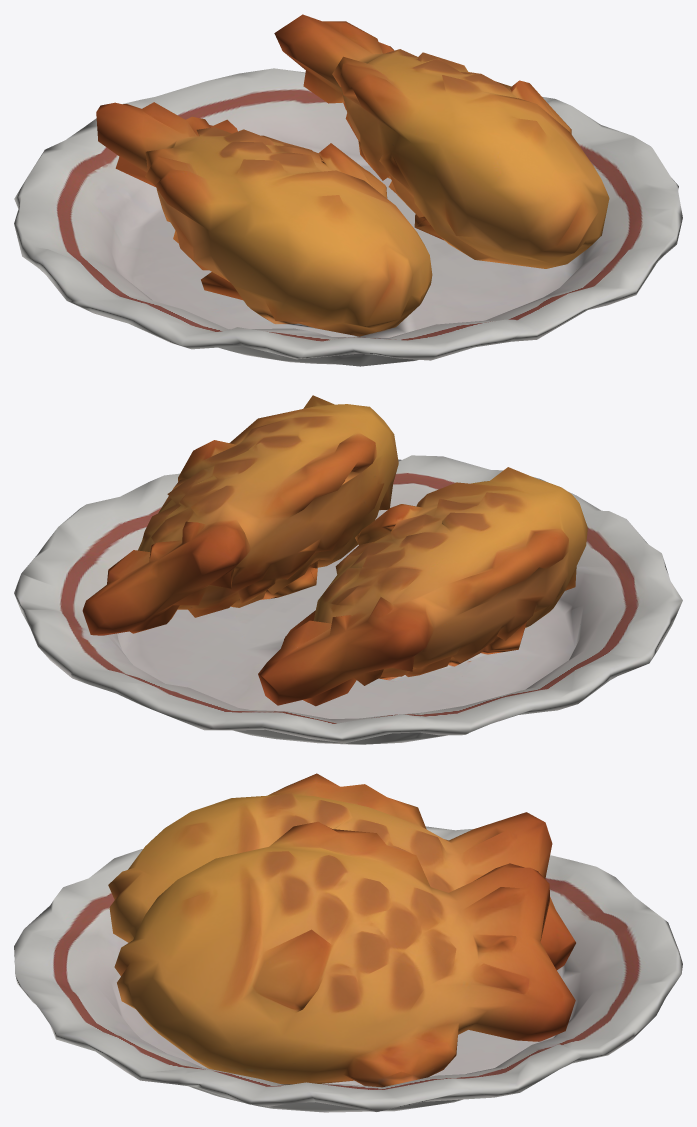
The model's file is KR_사물_s1_food_tier2_bungeoppang.glb.
The picture shows the model from 3 angles, top to bottom: view 1: azimuth 30°, elevation 25°; view 2: azimuth 150°, elevation 25°; view 3: azimuth 270°, elevation 25°; orthographic projection.
Visible parts, largest first — view 1: tripo_node_87b455a9-768c-48d7-bdda-f34a0cfb3f57; view 2: tripo_node_87b455a9-768c-48d7-bdda-f34a0cfb3f57; view 3: tripo_node_87b455a9-768c-48d7-bdda-f34a0cfb3f57.
Boxes of the visible parts, x1=… form: tripo_node_87b455a9-768c-48d7-bdda-f34a0cfb3f57: x1=14, y1=14, x2=682, y2=366; tripo_node_87b455a9-768c-48d7-bdda-f34a0cfb3f57: x1=14, y1=395, x2=682, y2=744; tripo_node_87b455a9-768c-48d7-bdda-f34a0cfb3f57: x1=14, y1=773, x2=682, y2=1112.
Bounding box in the file's own units: 1 × 0.3278 × 0.997.
Materials: 1 (1 with a texture image).
